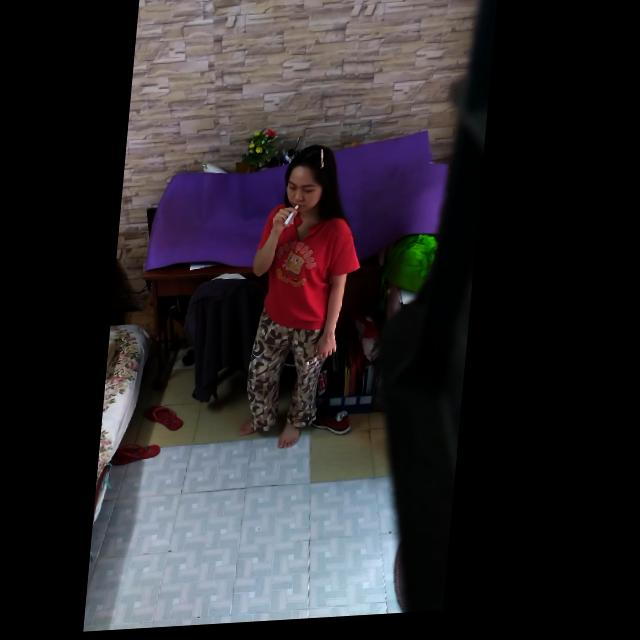cigarette: (288, 210, 303, 229)
